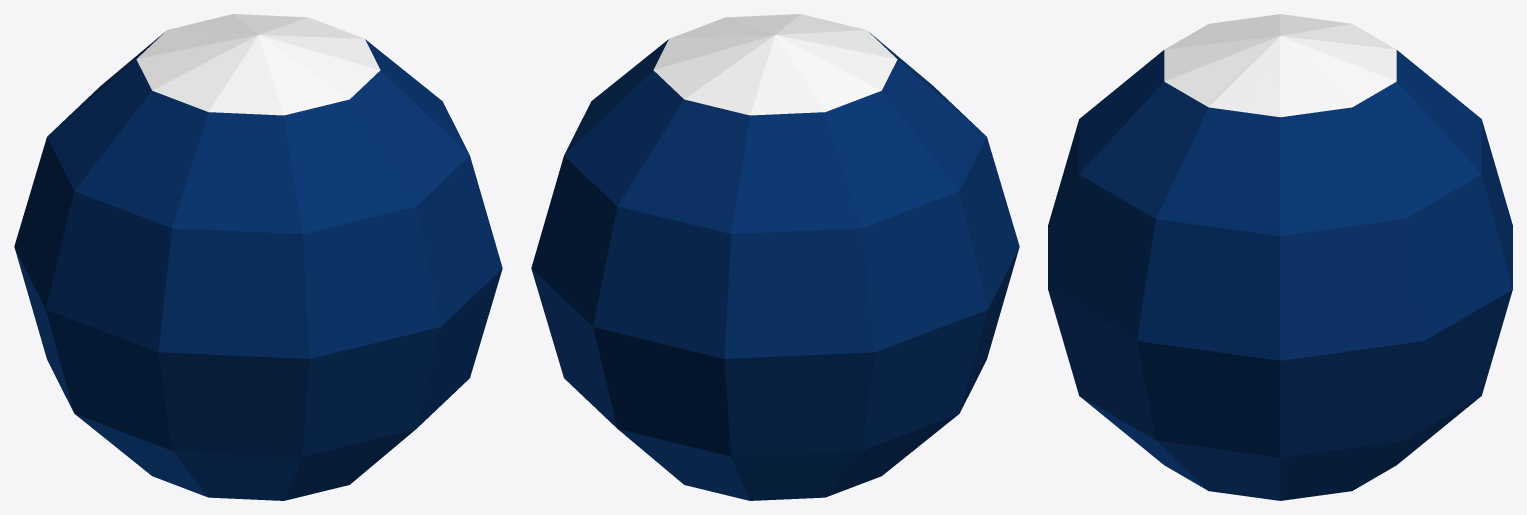
The model's file is ball_night.glb.
The picture shows the model from 3 angles, left to right: view 1: azimuth 30°, elevation 25°; view 2: azimuth 150°, elevation 25°; view 3: azimuth 270°, elevation 25°; orthographic projection.
Visible parts, largest first — view 1: Ball; view 2: Ball; view 3: Ball.
Boxes of the visible parts, x1,y1,x2,y2 form: Ball: (14,14,502,500); Ball: (531,14,1019,500); Ball: (1048,14,1512,500).
Bounding box in the file's own units: 0.09 × 0.09 × 0.0856.
